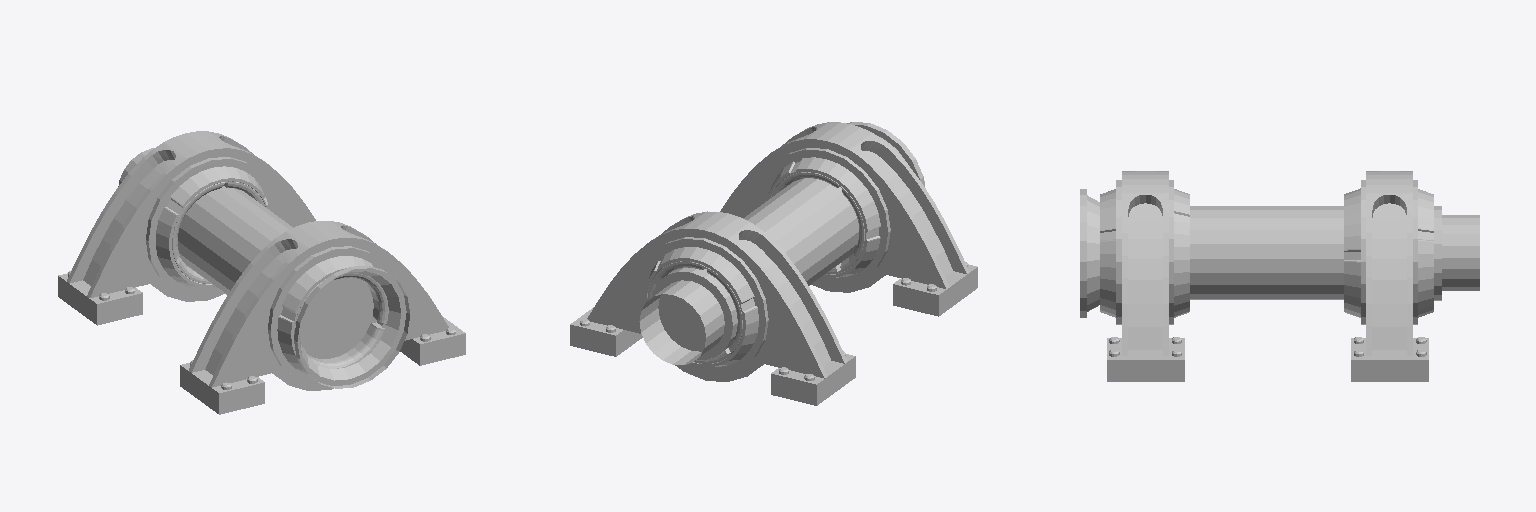
Rendered from windpowergenerator_inside_2001_05.obj.
The picture shows the model from 3 angles: view 1: azimuth 30°, elevation 25°; view 2: azimuth 150°, elevation 25°; view 3: azimuth 270°, elevation 25°; orthographic projection.
Parts seen in each view (by area): view 1: polySurface258; view 2: polySurface258; view 3: polySurface258.
Boxes of the visible parts, x1,y1,x2,y2 form: polySurface258: [58, 131, 465, 414]; polySurface258: [570, 122, 977, 405]; polySurface258: [1080, 171, 1479, 381].
Size of the model in its own units: 309 by 179 by 434.